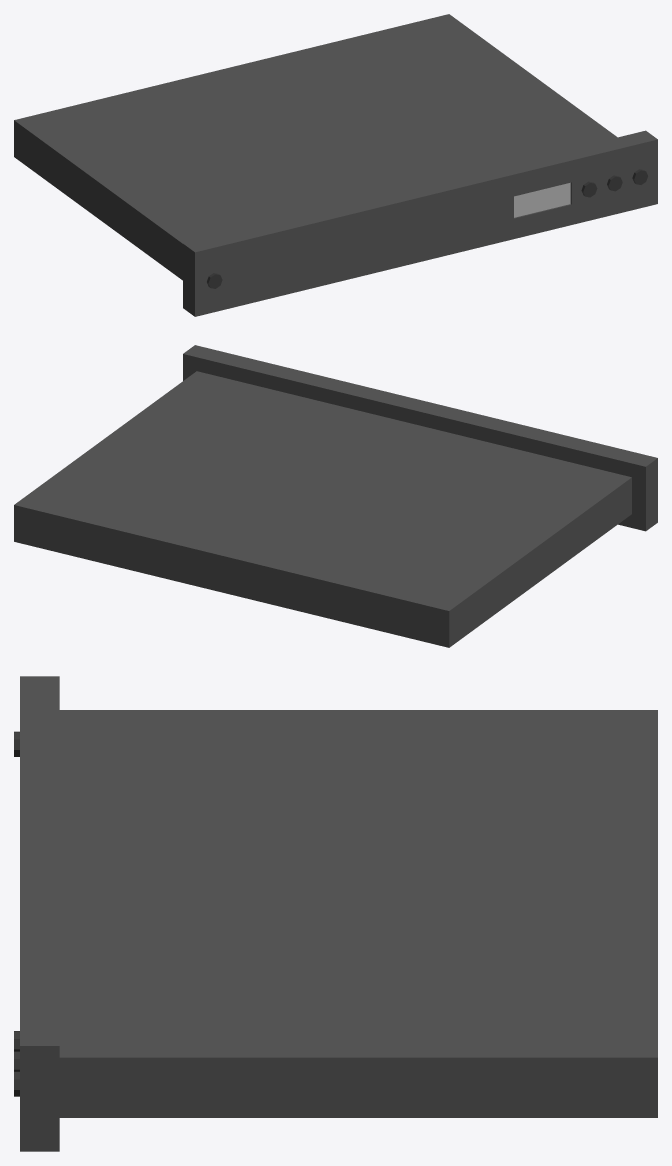
File: Hood2_C1_02.fbx
The picture shows the model from 3 angles, top to bottom: view 1: azimuth 30°, elevation 25°; view 2: azimuth 150°, elevation 25°; view 3: azimuth 270°, elevation 25°; orthographic projection. The views are drawn at different scales.
Visible parts, largest first — view 1: Hood2_C1_02; view 2: Hood2_C1_02; view 3: Hood2_C1_02.
Part boxes in pixels (bbox=[...]): Hood2_C1_02: bbox=[14, 14, 657, 316]; Hood2_C1_02: bbox=[14, 345, 657, 647]; Hood2_C1_02: bbox=[14, 676, 657, 1151].
Bounding box in the file's own units: 60 × 8 × 44.17.
